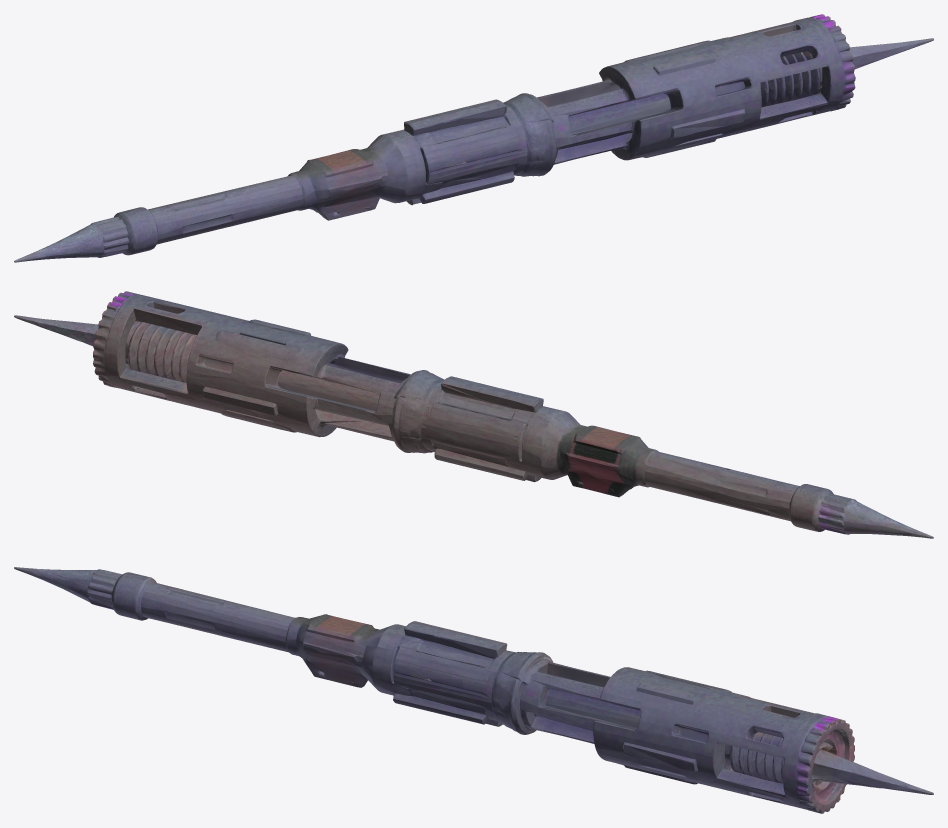
Rendered from tachyon_lance.glb.
The picture shows the model from 3 angles, top to bottom: view 1: azimuth 30°, elevation 25°; view 2: azimuth 150°, elevation 25°; view 3: azimuth 330°, elevation 25°; orthographic projection.
Size of the model in its own units: 1.9 by 0.1752 by 0.1839.
1 material, 1 textured.
